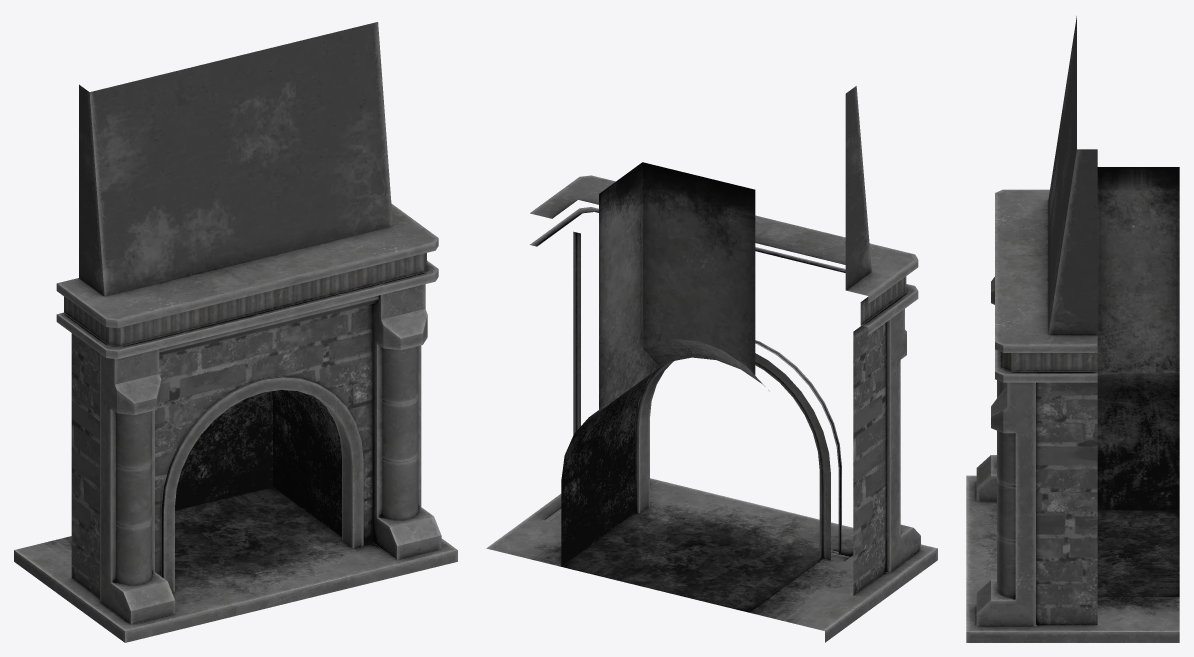
Rendered from lareira.glb.
3 views of the same model, side by side, from view 1: azimuth 30°, elevation 25°; view 2: azimuth 150°, elevation 25°; view 3: azimuth 270°, elevation 25° (orthographic). The views are drawn at different scales.
Parts seen in each view (by area): view 1: Box011; view 2: Box011; view 3: Box011.
Boxes of the visible parts, x1,y1,x2,y2 form: Box011: (14,22,457,642); Box011: (486,86,937,642); Box011: (966,16,1179,642).
Size of the model in its own units: 70.87 by 102 by 40.94.
1 material, 1 textured.
